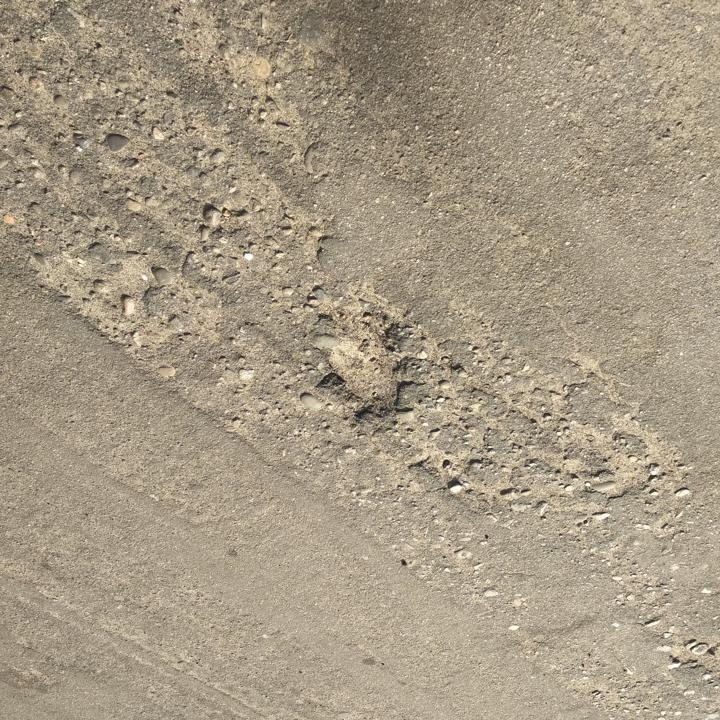pothole: (311, 302, 409, 422), (411, 441, 478, 500)
